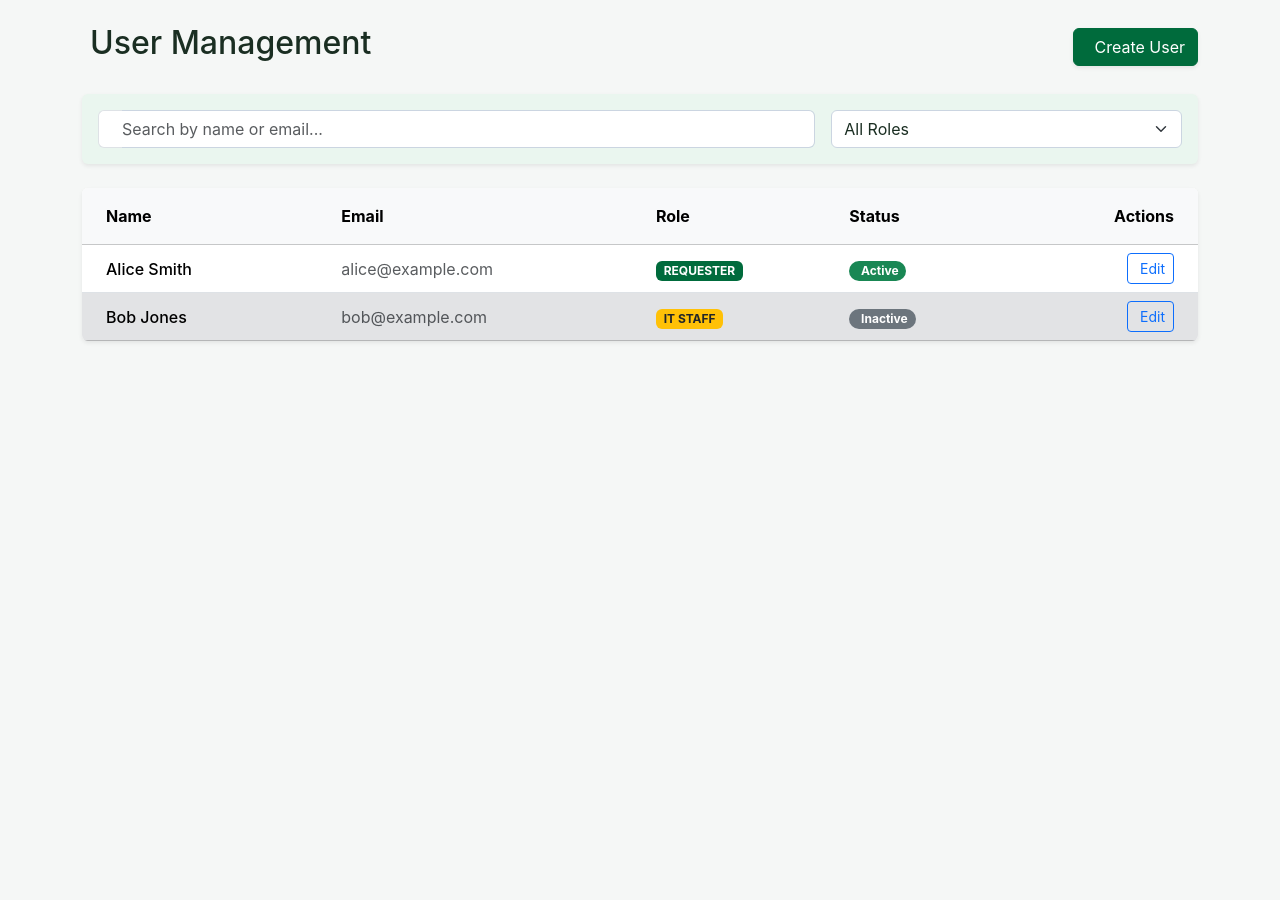
Test case: UserManagement Component › handles Reset Password interaction
Expected: the text "Alice Smith" is shown, [82,245,333,293]
Click the button "Edit" in the row of "Alice Smith".
click(1150, 269)  # box [1127,253,1174,284]
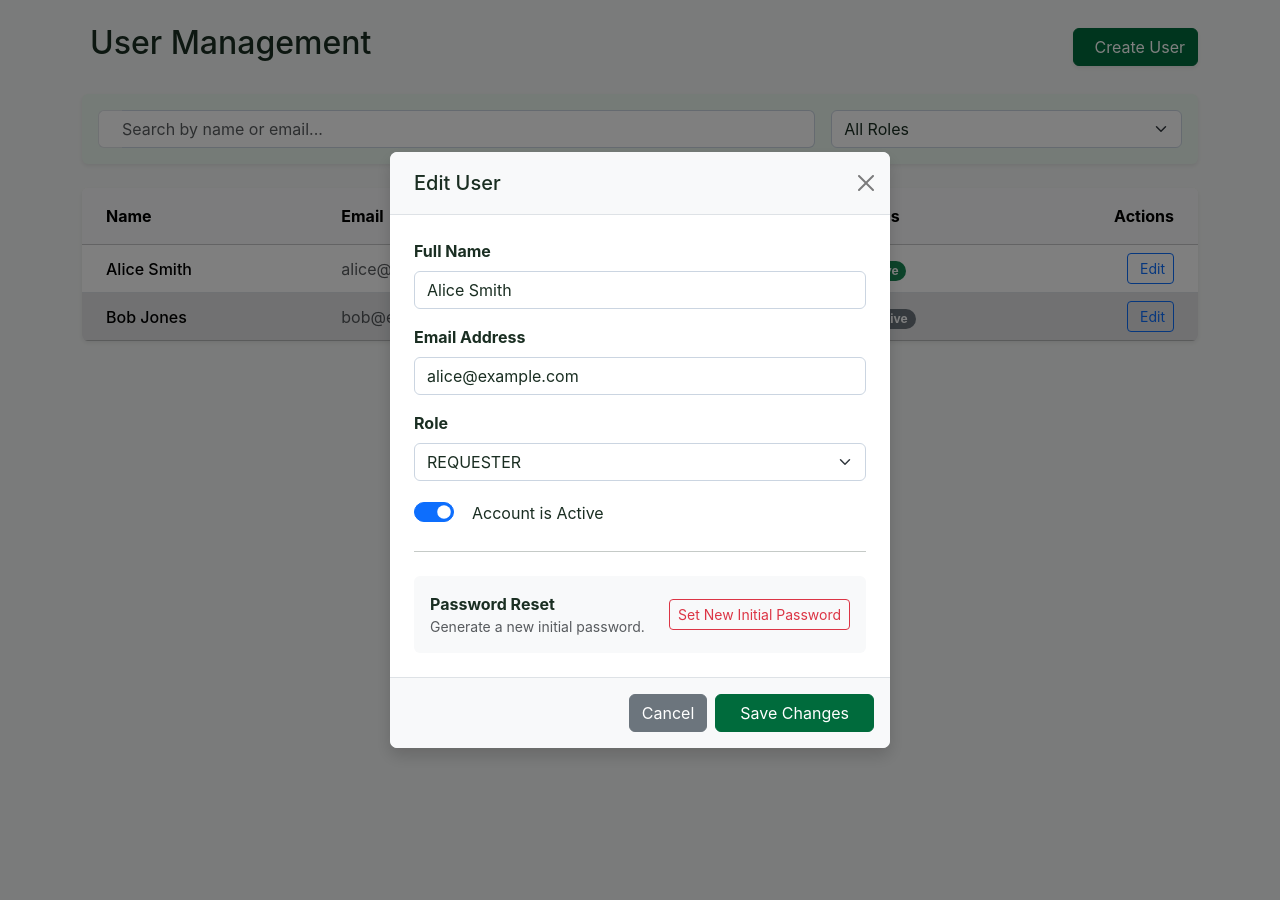
Expected: the heading "Edit User" is shown, [406,168,501,198]
Click the button "Set New Initial Password".
click(760, 614)  # box [669,599,850,630]
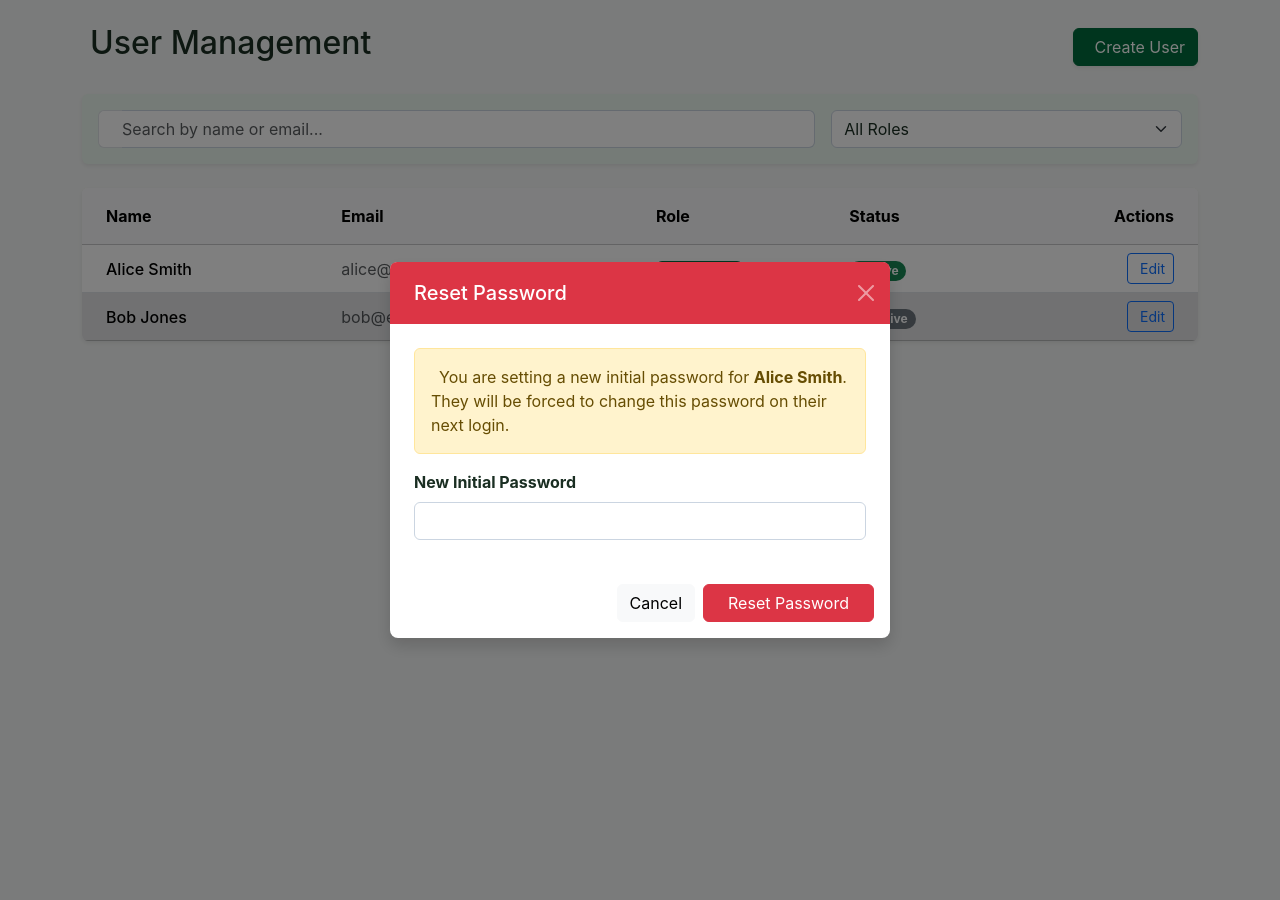
Expected: the heading "Reset Password" is shown, [406,278,567,308]
Type "NewPass123!" into the password field.
click(640, 521); type("NewPass123!")  # box [414,502,866,540]
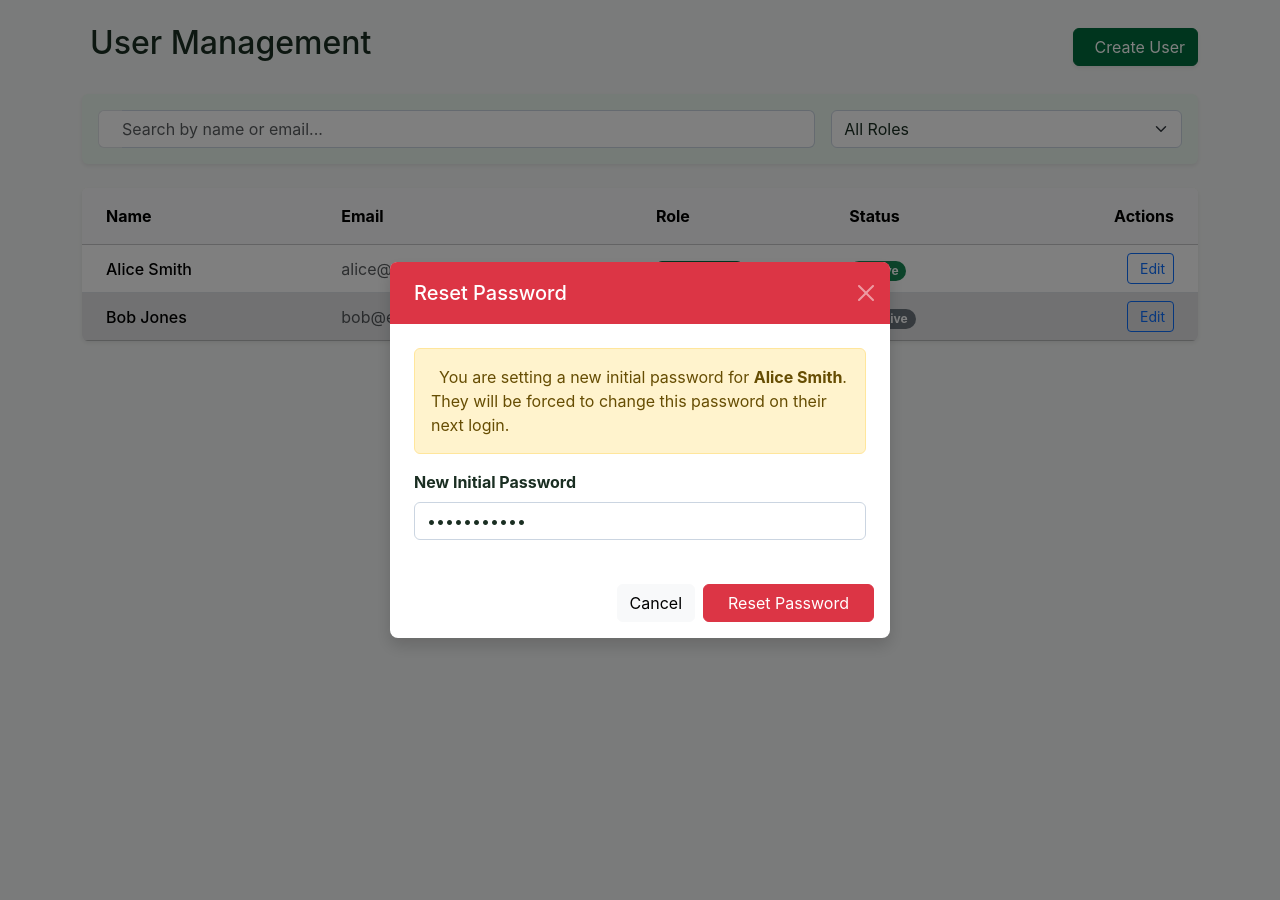
Click the button "Reset Password".
click(788, 603)  # box [703,584,874,622]
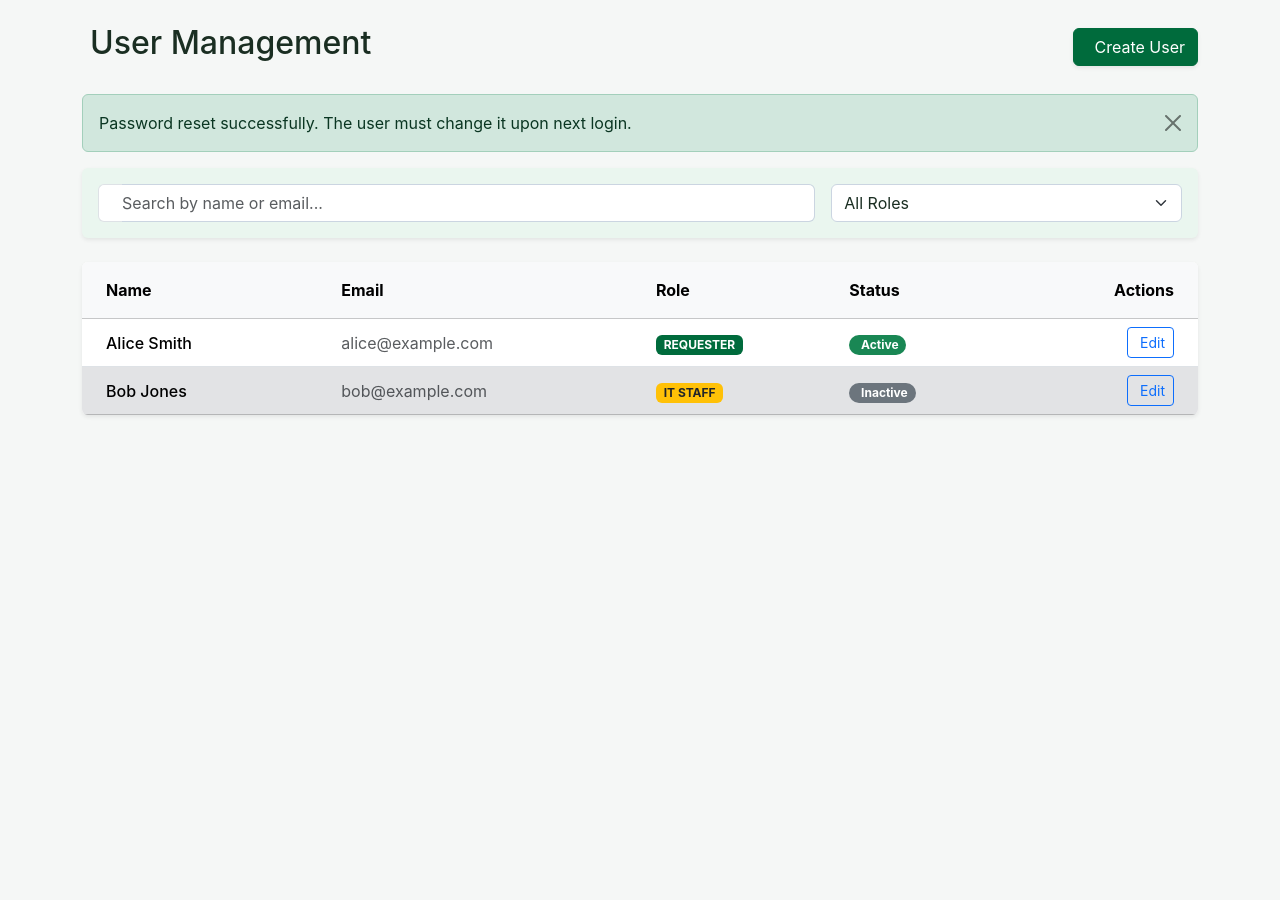
Expected: the text "Password reset successfully. The user must change it upon next login." is shown, [82,94,1198,152]
